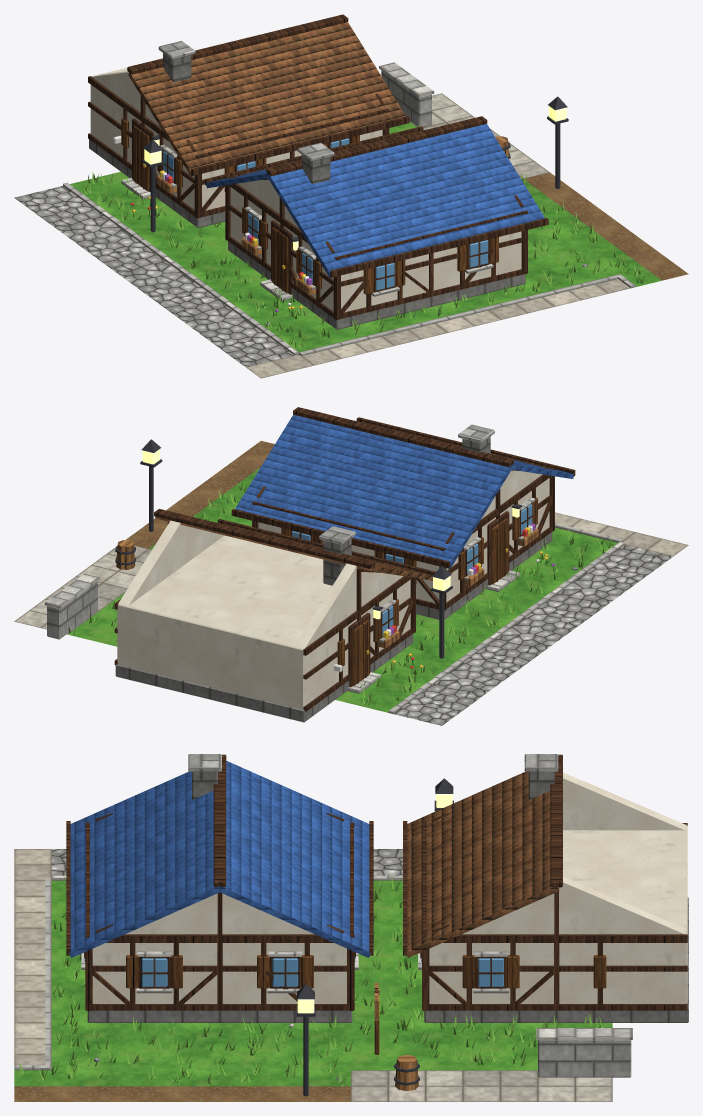
File: chunk_2_7.glb
3 views of the same model, one above another, from view 1: azimuth 30°, elevation 25°; view 2: azimuth 150°, elevation 25°; view 3: azimuth 270°, elevation 25° (orthographic). The views are drawn at different scales.
Parts seen in each view (by area): view 1: chunk_2_7; view 2: chunk_2_7; view 3: chunk_2_7.
Part boxes in pixels (<box>): chunk_2_7: <box>14,14,688,378</box>; chunk_2_7: <box>14,407,688,725</box>; chunk_2_7: <box>14,754,688,1101</box>.
Size of the model in its own units: 16 by 4.98 by 18.05.
Materials: 26 (17 with a texture image).
